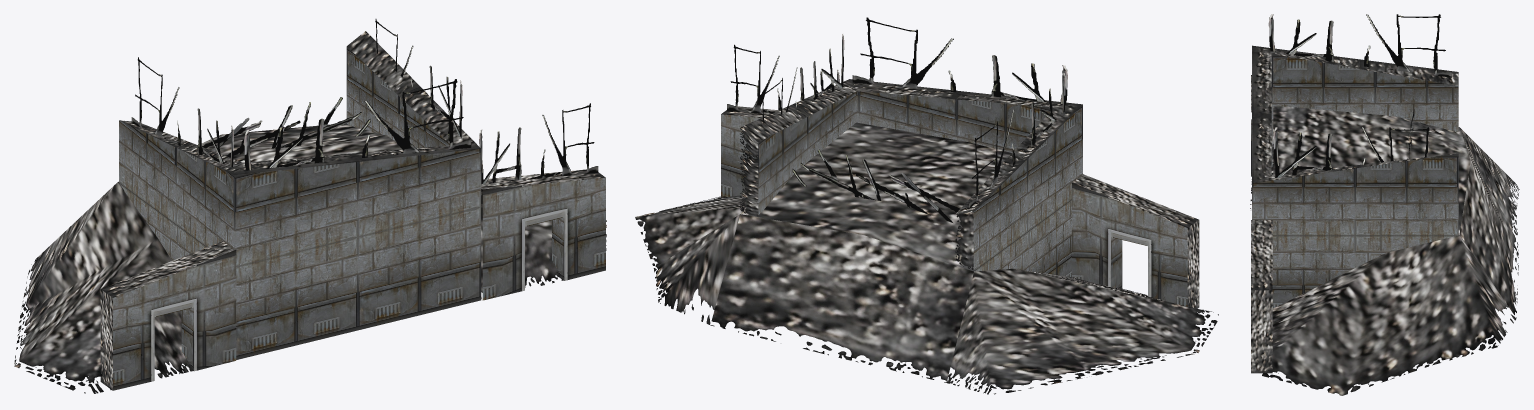
The model's file is s_admin_core_dam_hdtex.glb.
3 renders of one model, left to right at view 1: azimuth 30°, elevation 25°; view 2: azimuth 150°, elevation 25°; view 3: azimuth 270°, elevation 25°, orthographic. The views are drawn at different scales.
Parts seen in each view (by area): view 1: Tube01; view 2: Tube01; view 3: Tube01.
Part boxes in pixels (x1,y1,x2,y2): Tube01: (14, 19, 606, 393); Tube01: (635, 17, 1218, 394); Tube01: (1250, 14, 1519, 395).
Bounding box in the file's own units: 42.1 × 15.23 × 18.5.
Materials: 5 (5 with a texture image).
